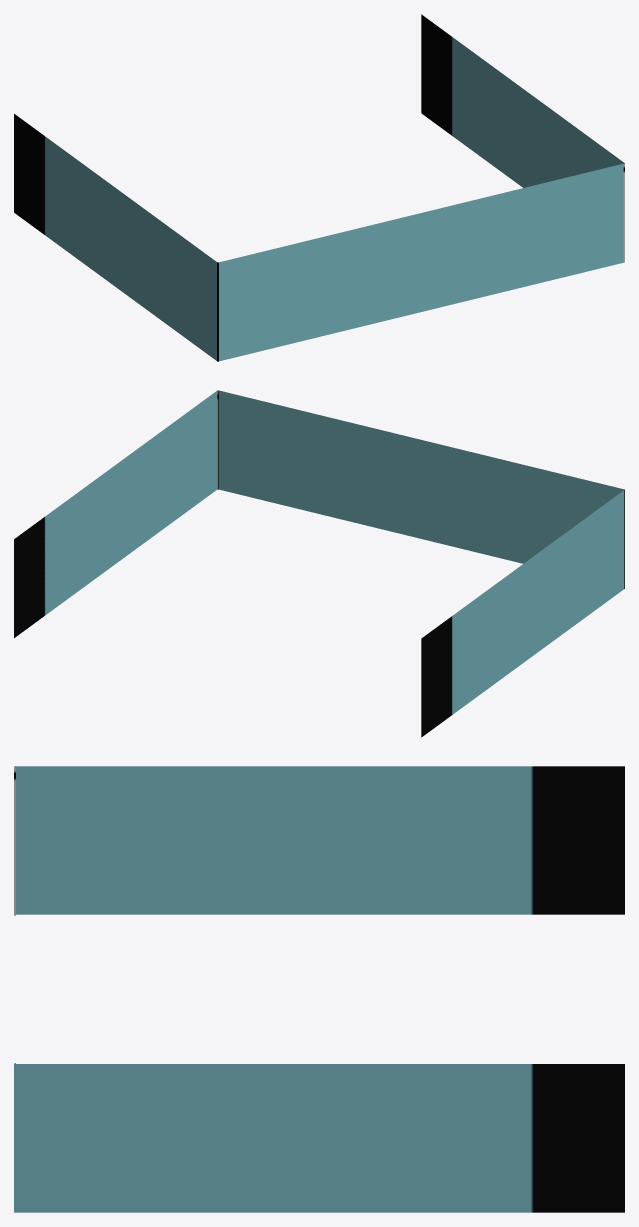
The model's file is Windows.obj.
The picture shows the model from 3 angles, top to bottom: view 1: azimuth 30°, elevation 25°; view 2: azimuth 150°, elevation 25°; view 3: azimuth 270°, elevation 25°; orthographic projection. The views are drawn at different scales.
Parts seen in each view (by area): view 1: Plane.2, Plane, Plane.1; view 2: Plane.2, Plane.1, Plane; view 3: Plane.1, Plane.
Boxes of the visible parts, left/top/right/bottom form: Plane.2: left=219, top=163, right=623, bottom=361; Plane: left=14, top=114, right=216, bottom=360; Plane.1: left=421, top=14, right=623, bottom=187; Plane.2: left=219, top=390, right=624, bottom=563; Plane.1: left=14, top=390, right=217, bottom=637; Plane: left=421, top=490, right=624, bottom=737; Plane.1: left=14, top=1064, right=624, bottom=1212; Plane: left=16, top=766, right=624, bottom=914.
Size of the model in its own units: 75 by 17.46 by 65.
